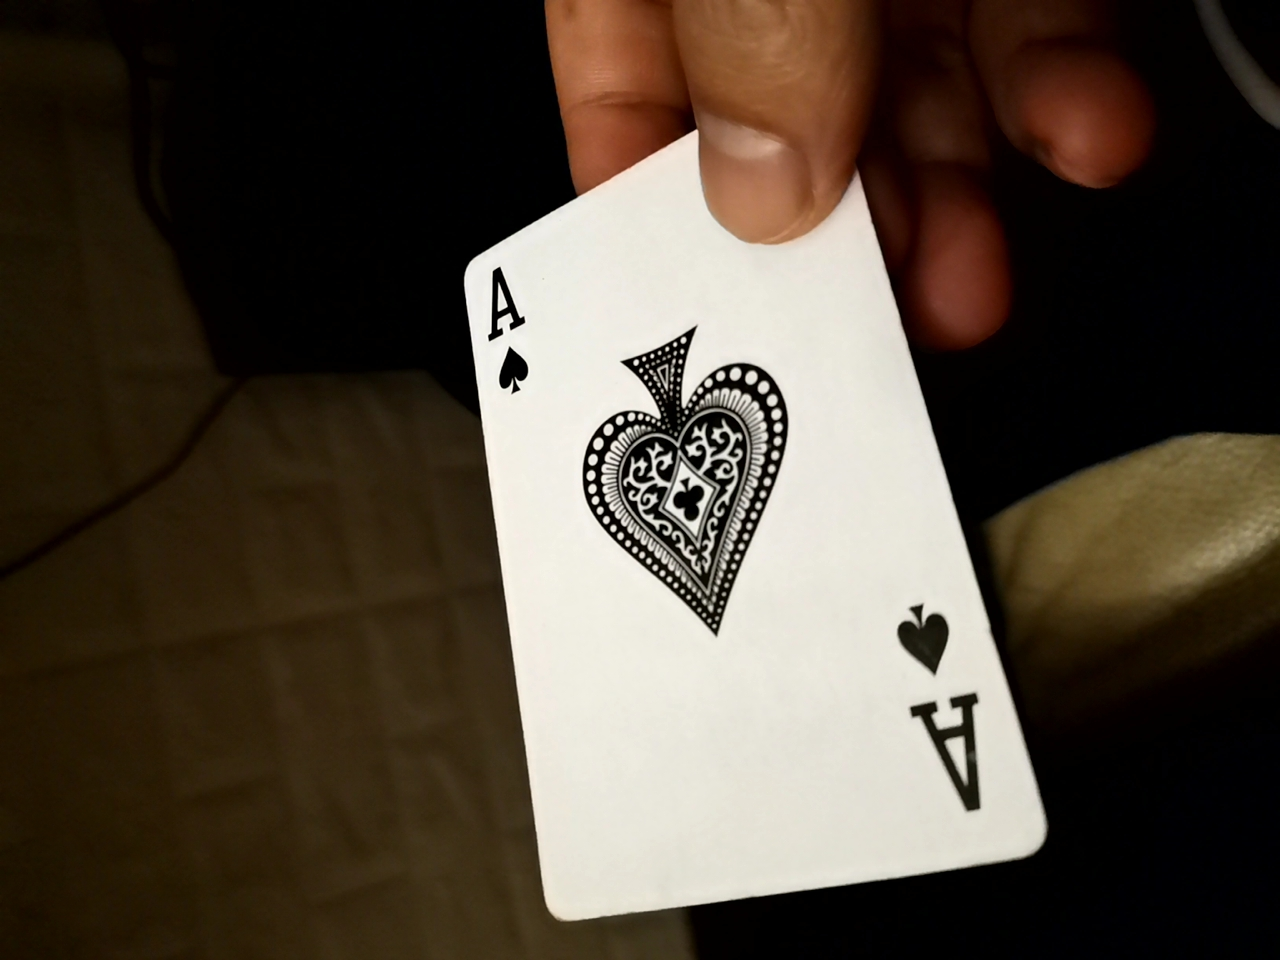ht a: (415, 90, 1035, 942)
